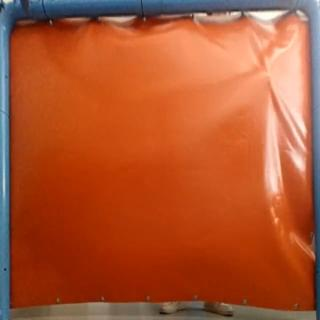Hit-hRxx: (261, 69, 275, 83)
